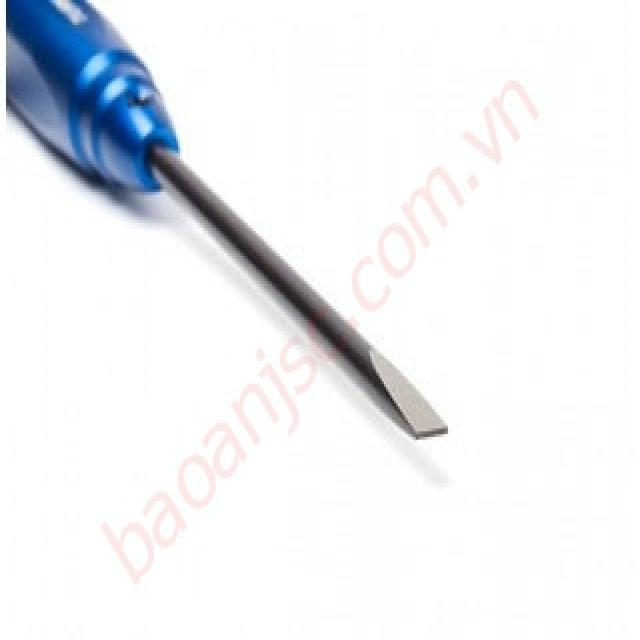screwdriver: (5, 0, 455, 448)
